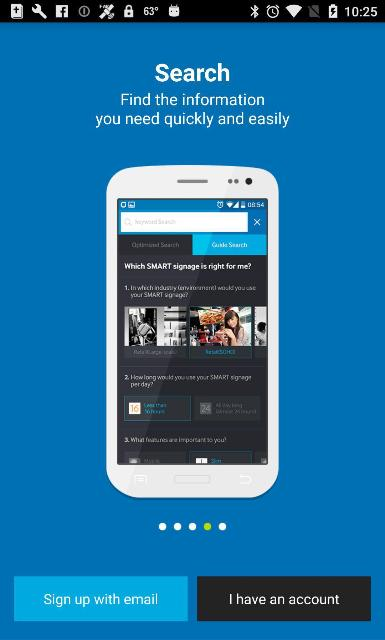Image: (106, 165, 278, 499)
PageIndicator: (158, 522, 226, 530)
Text: (96, 92, 290, 128), (44, 594, 158, 608), (155, 62, 229, 82), (230, 594, 340, 604)
TextButton: (197, 577, 371, 621), (14, 576, 188, 620)
UpperTaskBar: (0, 0, 384, 22)
